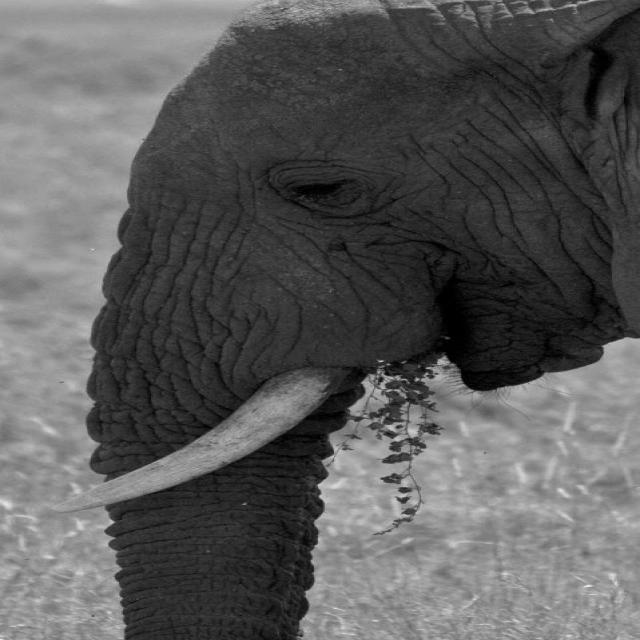Elephant: (53, 0, 631, 596)
